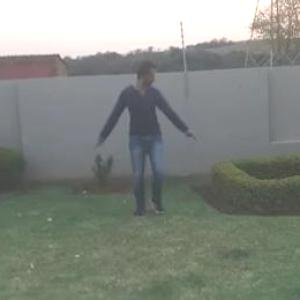land: (68, 56, 205, 249)
